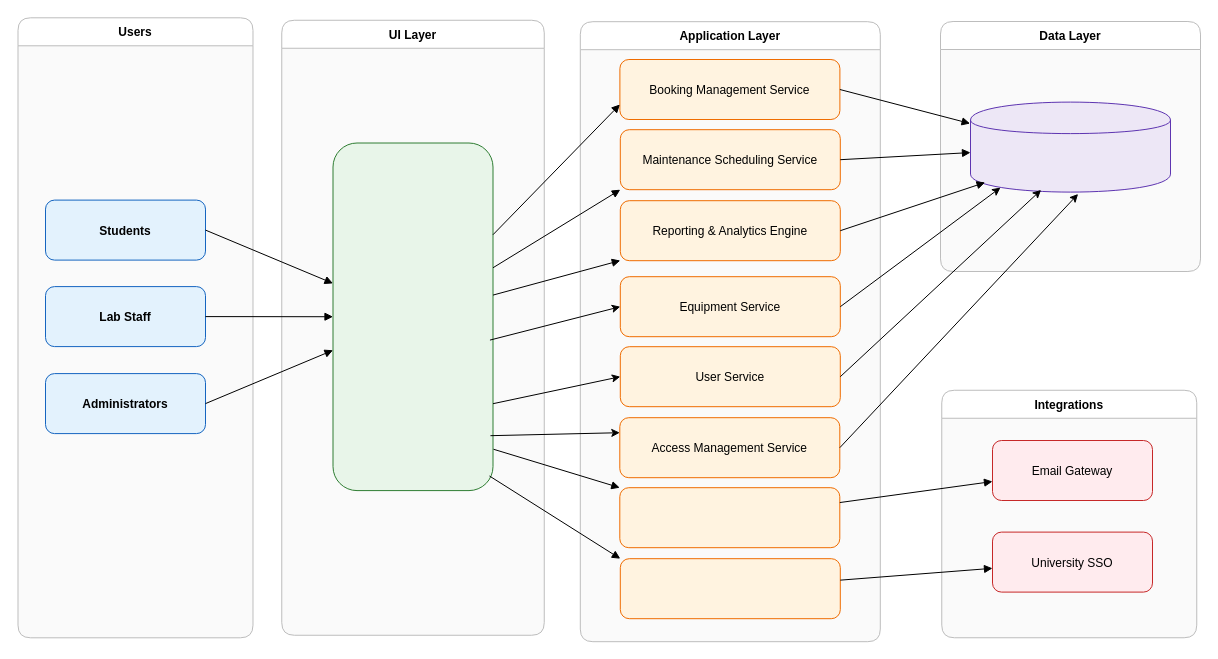
Image size: 1218x659. Some labels were removed from this diagram. The centre of each missing label's shape, as x and y in pixels:
"Authentication" belongs at point (729, 588).
"Notification Service" belongs at point (729, 517).
"Operational DB" belongs at point (1070, 146).
"Web Application (UI)" belongs at point (412, 316).
